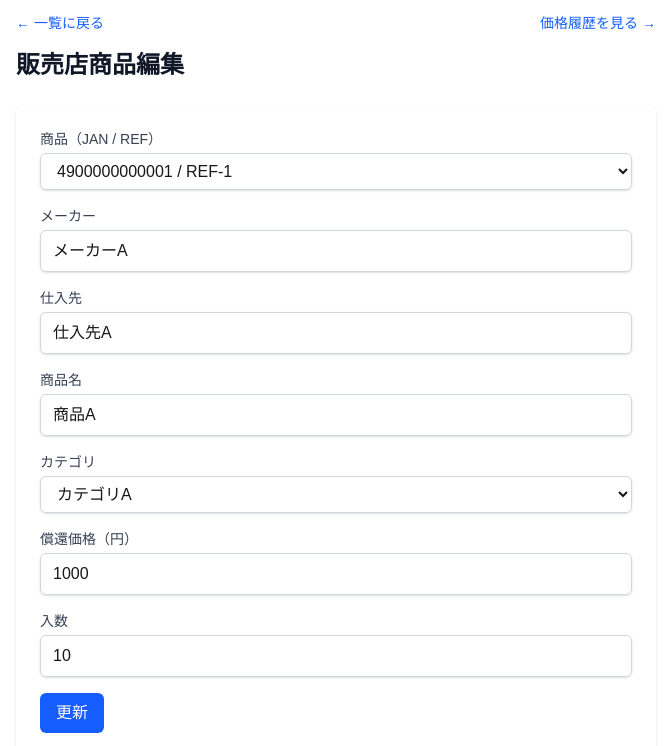
Scenario: EditDistributorProductPage › ネットワークエラーで submitError を表示する
Expected: the field showing "商品A" is shown, [40,394,632,436]
Click the button "更新" at (72, 713), box [40,693,104,733]
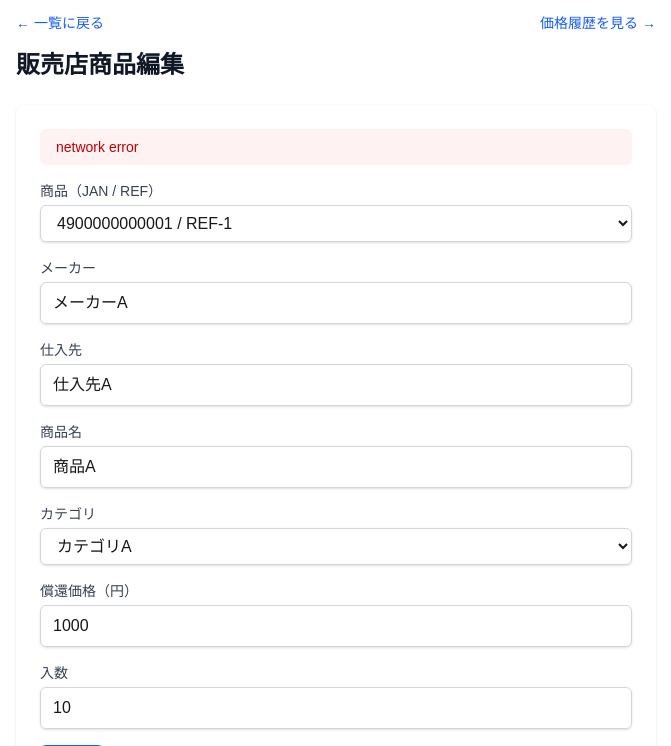
Now the text "network error" is shown, box [40,129,632,165]
